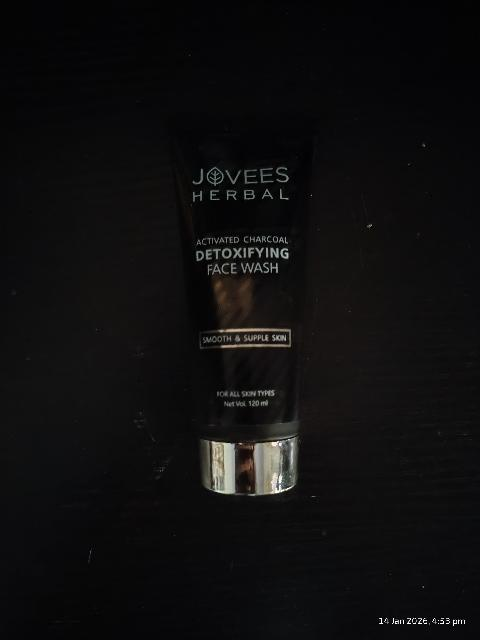jovees herbal: (184, 138, 307, 492)
